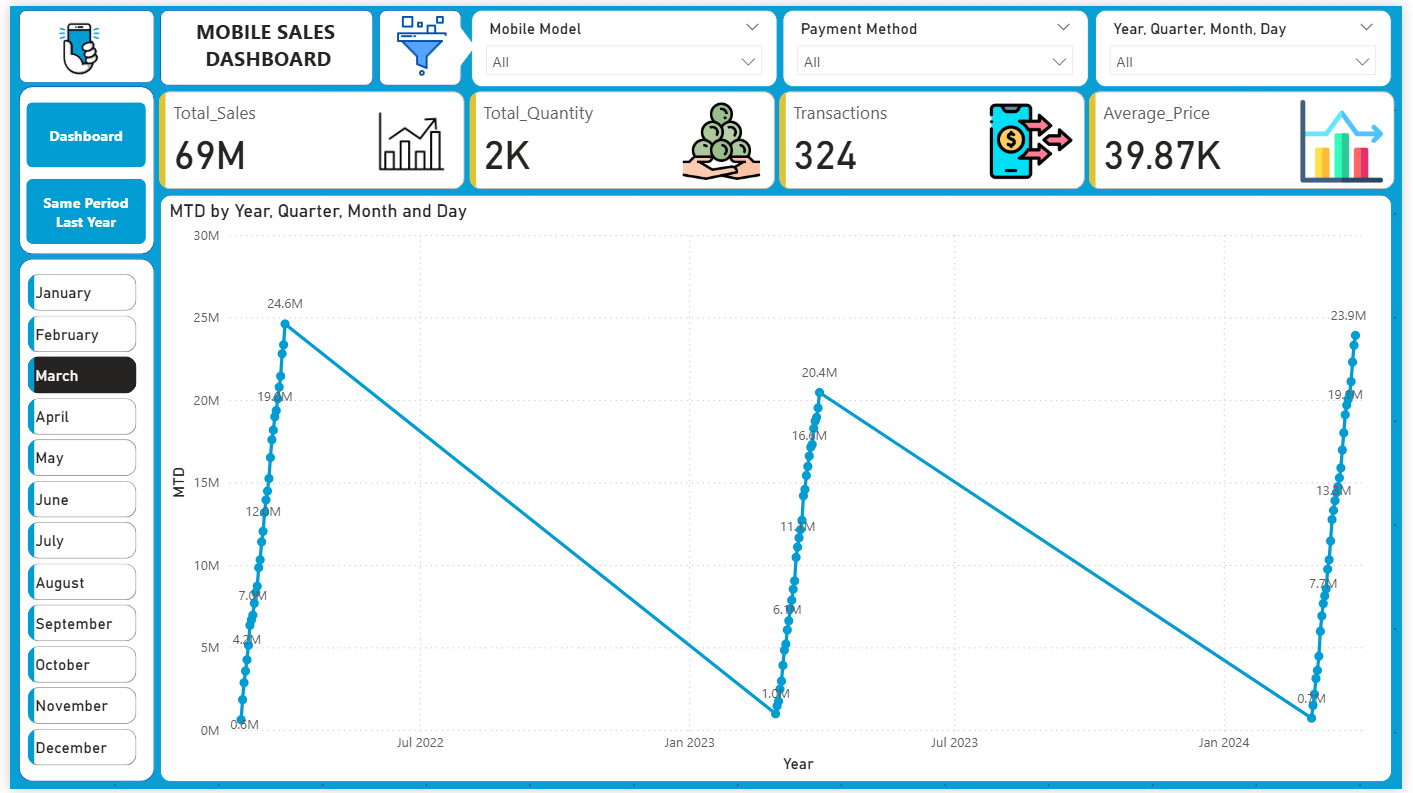

What the dashboard file says about the page in this screenshot:
{"tool":"powerbi","page":{"name":"MTD Report","canvas":[1280,720],"ordinal":1},"visuals":[{"type":"shape","box":[7.5,3.8,125,67.5],"z":0},{"type":"image","box":[23.8,3.8,78.8,71.2],"z":1000},{"type":"shape","box":[7.5,73.8,125,155],"z":2000},{"type":"cardVisual","fields":{"Data":["Sales_Data.Total_Sales","Sales_Data.Total_Quantity","Sales_Data.Transactions","Sales_Data.Average_Price"]},"box":[132.5,73.8,1147.5,100],"z":3000},{"type":"slicer","fields":{"Values":["Sales_Data.Mobile Model"]},"box":[423.8,3.8,281.2,71.2],"z":4000},{"type":"slicer","fields":{"Values":["Sales_Data.Payment Method"]},"box":[710,3.8,281.2,71.2],"z":5000},{"type":"slicer","fields":{"Values":["Custom_Calendar.Date.Variation.Date Hierarchy.Year","Custom_Calendar.Date.Variation.Date Hierarchy.Quarter","Custom_Calendar.Date.Variation.Date Hierarchy.Month","Custom_Calendar.Date.Variation.Date Hierarchy.Day"]},"box":[997.5,3.8,272.5,71.2],"z":6000},{"type":"shape","box":[338.8,3.8,76.2,70],"z":7000},{"type":"image","box":[337.5,3.8,81.2,66.2],"z":8000},{"type":"shape","box":[397.5,17.5,30,40],"z":9000},{"type":"shape","box":[137.5,3.8,196.2,70],"z":10000},{"type":"textbox","box":[156.2,6.2,162.5,63.8],"z":11000},{"type":"lineChart","fields":{"Y":["Sales_Data.MTD"],"Category":["Custom_Calendar.Date.Variation.Date Hierarchy.Year","Custom_Calendar.Date.Variation.Date Hierarchy.Quarter","Custom_Calendar.Date.Variation.Date Hierarchy.Month","Custom_Calendar.Date.Variation.Date Hierarchy.Day"]},"box":[137.5,173.8,1132.5,540],"z":12000},{"type":"shape","box":[7.5,232.5,125,481.2],"z":13000},{"type":"advancedSlicerVisual","fields":{"Values":["Custom_Calendar.Date.Variation.Date Hierarchy.Month"]},"box":[11.2,241.2,110,472.5],"z":14000},{"type":"pageNavigator","box":[15,88.8,110,130],"z":15000}]}

Visuals, with their boxes in screenshot pixels (x1, y1, x2, y2), scaled from the page's 1280x720 canvas onto the 1413x793 screenshot:
shape: bbox=[8, 4, 146, 79]
image: bbox=[26, 4, 113, 83]
shape: bbox=[8, 81, 146, 252]
cardVisual - Sales_Data.Total_Sales x Sales_Data.Total_Quantity: bbox=[146, 81, 1412, 191]
slicer - Sales_Data.Mobile Model: bbox=[468, 4, 778, 83]
slicer - Sales_Data.Payment Method: bbox=[784, 4, 1094, 83]
slicer - Custom_Calendar.Date.Variation.Date Hierarchy.Year x Custom_Calendar.Date.Variation.Date Hierarchy.Quarter: bbox=[1101, 4, 1402, 83]
shape: bbox=[374, 4, 458, 81]
image: bbox=[373, 4, 462, 77]
shape: bbox=[439, 19, 472, 63]
shape: bbox=[152, 4, 368, 81]
textbox: bbox=[172, 7, 352, 77]
lineChart - Sales_Data.MTD x Custom_Calendar.Date.Variation.Date Hierarchy.Year: bbox=[152, 191, 1402, 786]
shape: bbox=[8, 256, 146, 786]
advancedSlicerVisual - Custom_Calendar.Date.Variation.Date Hierarchy.Month: bbox=[12, 266, 134, 786]
pageNavigator: bbox=[17, 98, 138, 241]
